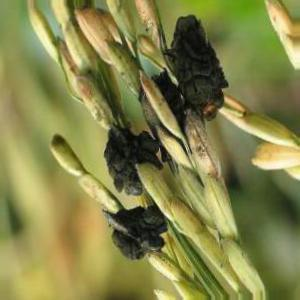Leaf_Scald: (172, 13, 229, 116), (109, 116, 156, 188), (113, 208, 169, 266)
